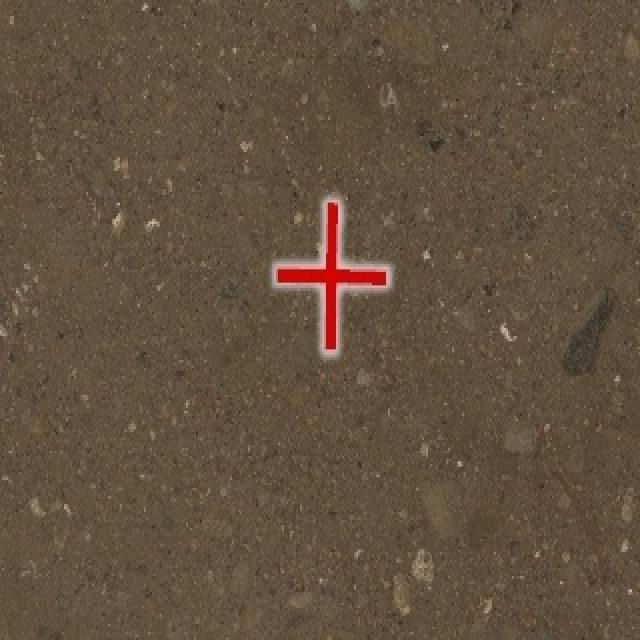x_marker: (275, 201, 387, 351)
